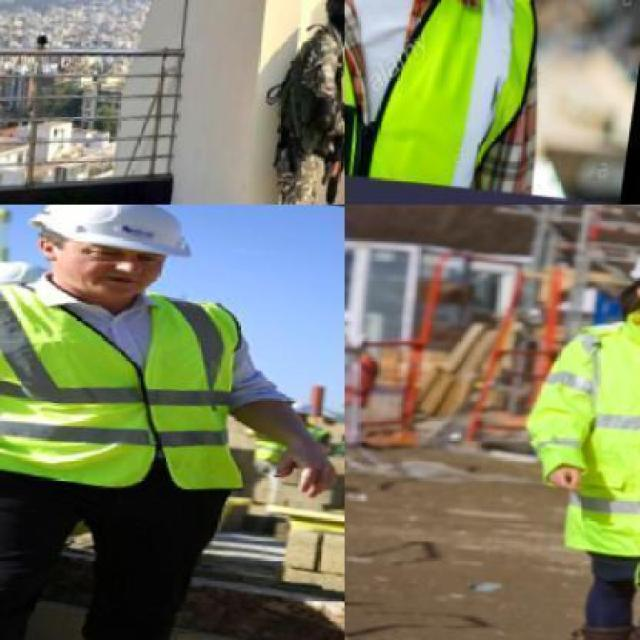Vest: (0, 266, 286, 506), (345, 0, 557, 203), (503, 295, 639, 583), (268, 37, 343, 161)
